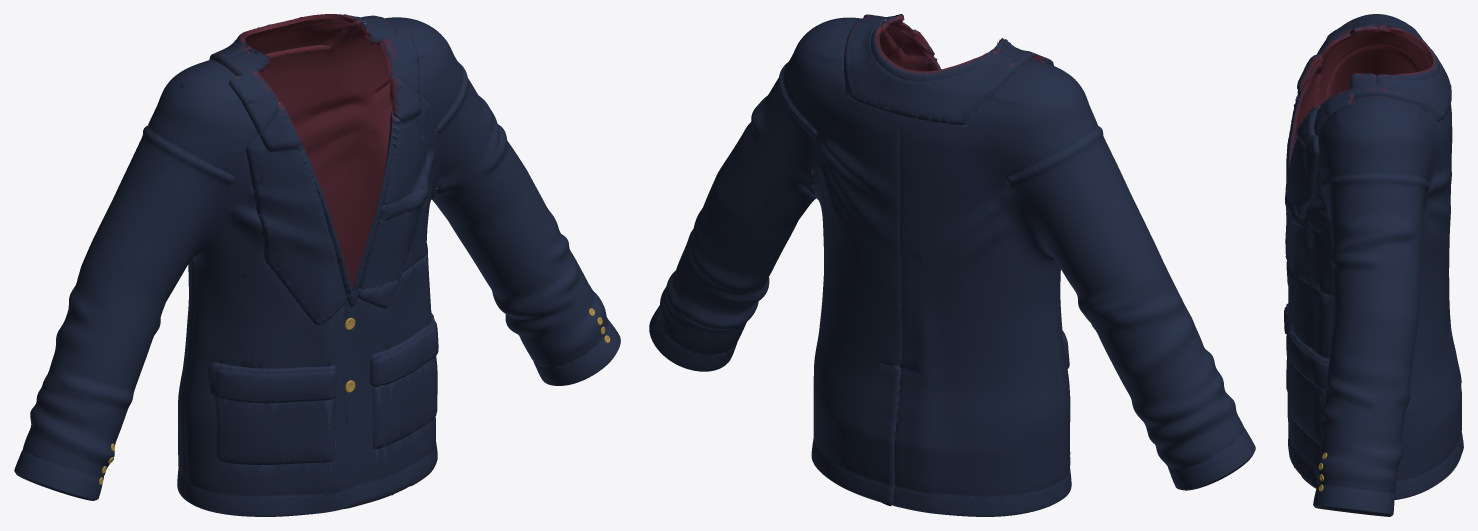
The model's file is 01_americana_pbr.glb.
3 renders of one model, left to right at view 1: azimuth 30°, elevation 25°; view 2: azimuth 150°, elevation 25°; view 3: azimuth 270°, elevation 25°, orthographic. The views are drawn at different scales.
Parts seen in each view (by area): view 1: Camiseta PBR; view 2: Camiseta PBR; view 3: Camiseta PBR.
Part boxes in pixels (left/top/right/bottom): Camiseta PBR: left=14, top=14, right=620, bottom=516; Camiseta PBR: left=649, top=14, right=1255, bottom=516; Camiseta PBR: left=1284, top=14, right=1463, bottom=516.
Size of the model in its own units: 1.04 by 0.7398 by 0.3002.
Materials: 2 (1 with a texture image).
